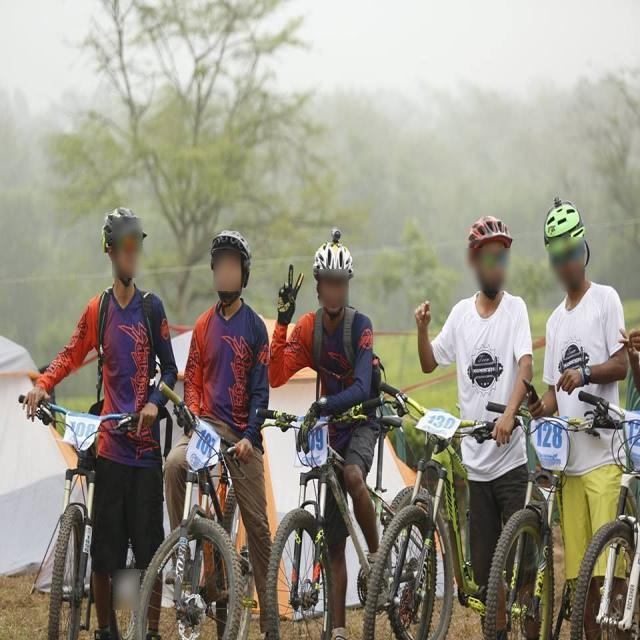bicycle: (27, 207, 178, 640), (412, 213, 540, 628), (348, 357, 533, 637), (534, 198, 640, 640), (269, 231, 382, 640), (164, 227, 275, 640), (250, 395, 433, 637), (5, 362, 164, 637), (134, 373, 267, 637), (481, 401, 618, 640), (558, 363, 638, 632)
